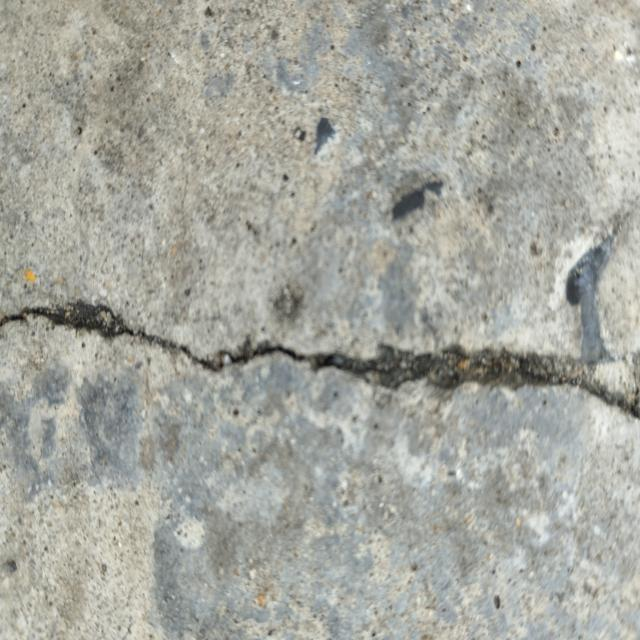horizontal crack: (0, 301, 639, 418)
